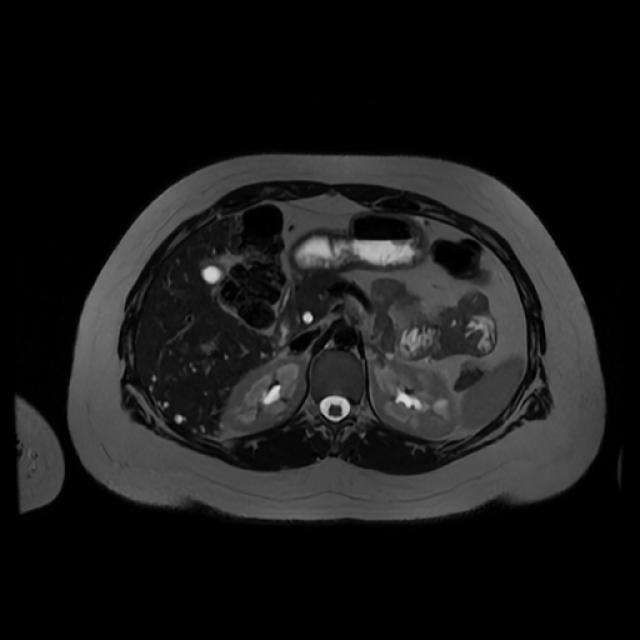sag: (226, 360, 308, 431)
sol: (371, 358, 457, 434)
